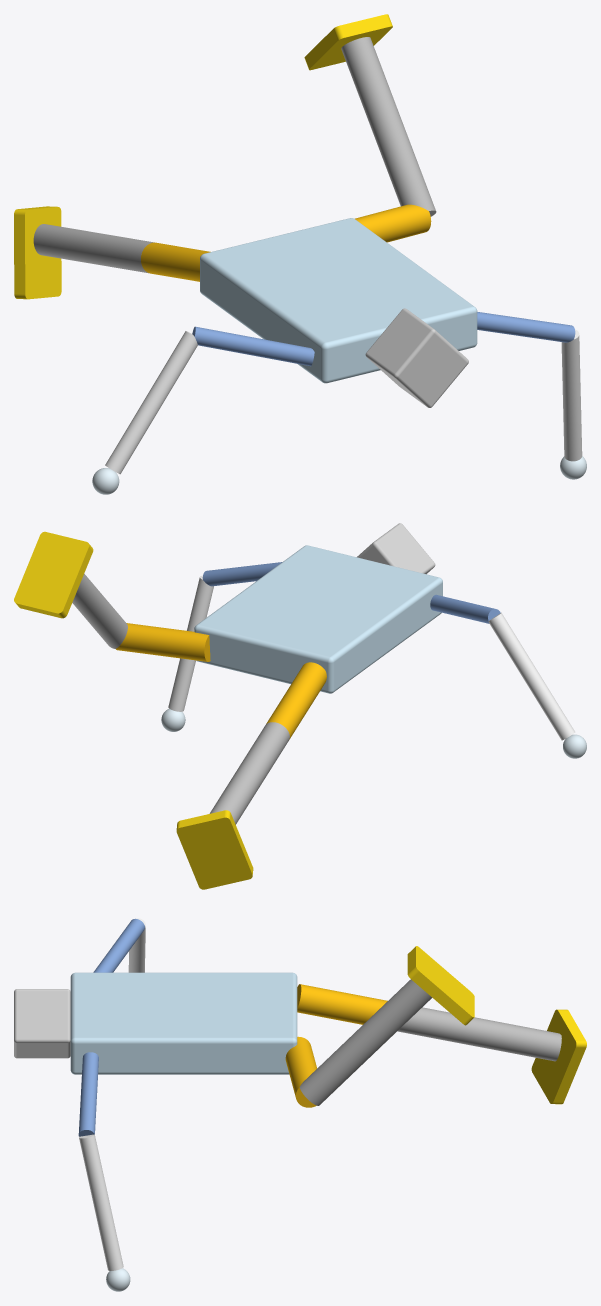
Rendered from Mockup assembly.gltf.
3 views of the same model, one above another, from view 1: azimuth 30°, elevation 25°; view 2: azimuth 150°, elevation 25°; view 3: azimuth 270°, elevation 25° (orthographic). The views are drawn at different scales.
Visible parts, largest first — view 1: Body, LeftLowerLeg, Head, RightFoot, RightLowerLeg, RightLowerArm, LeftLowerArm, RightUpperArm, LeftFoot, RightUpperLeg, LeftUpperLeg, LeftUpperArm; view 2: Body, LeftFoot, RightFoot, RightLowerLeg, LeftUpperLeg, RightLowerArm, Head, RightUpperLeg, LeftLowerLeg, LeftLowerArm, LeftUpperArm, RightUpperArm (+1 smaller); view 3: Body, LeftLowerLeg, RightLowerLeg, Head, RightFoot, LeftFoot, LeftLowerArm, RightUpperLeg, LeftUpperArm, LeftUpperLeg, RightUpperArm, RightLowerArm.
Boxes of the visible parts, x1,y1,x2,y2 form: Body: [200, 218, 477, 383]; LeftLowerLeg: [341, 37, 436, 216]; Head: [365, 308, 468, 407]; RightFoot: [14, 206, 61, 299]; RightLowerLeg: [33, 224, 154, 273]; RightLowerArm: [105, 331, 197, 474]; LeftLowerArm: [561, 329, 582, 461]; RightUpperArm: [192, 326, 314, 366]; LeftFoot: [304, 14, 392, 70]; RightUpperLeg: [141, 242, 210, 281]; LeftUpperLeg: [355, 204, 431, 242]; LeftUpperArm: [477, 312, 575, 342]; Body: [194, 545, 442, 693]; LeftFoot: [14, 531, 93, 618]; RightFoot: [176, 810, 253, 889]; RightLowerLeg: [209, 722, 289, 824]; LeftUpperLeg: [116, 623, 210, 661]; RightLowerArm: [488, 612, 575, 740]; Head: [357, 523, 435, 574]; RightUpperLeg: [266, 662, 326, 739]; LeftLowerLeg: [72, 573, 127, 648]; LeftLowerArm: [168, 575, 213, 711]; LeftUpperArm: [202, 562, 281, 586]; RightUpperArm: [430, 594, 500, 623]; Body: [70, 972, 297, 1074]; LeftLowerLeg: [299, 979, 432, 1105]; RightLowerLeg: [397, 1007, 561, 1061]; Head: [14, 989, 70, 1058]; RightFoot: [531, 1009, 586, 1104]; LeftFoot: [407, 946, 474, 1025]; LeftLowerArm: [79, 1134, 123, 1270]; RightUpperLeg: [297, 984, 387, 1024]; LeftUpperArm: [78, 1052, 98, 1136]; LeftUpperLeg: [285, 1036, 316, 1107]; RightUpperArm: [93, 918, 144, 972]; RightLowerArm: [128, 918, 145, 972].
Size of the model in its own units: 0.6182 by 0.428 by 0.7077.
